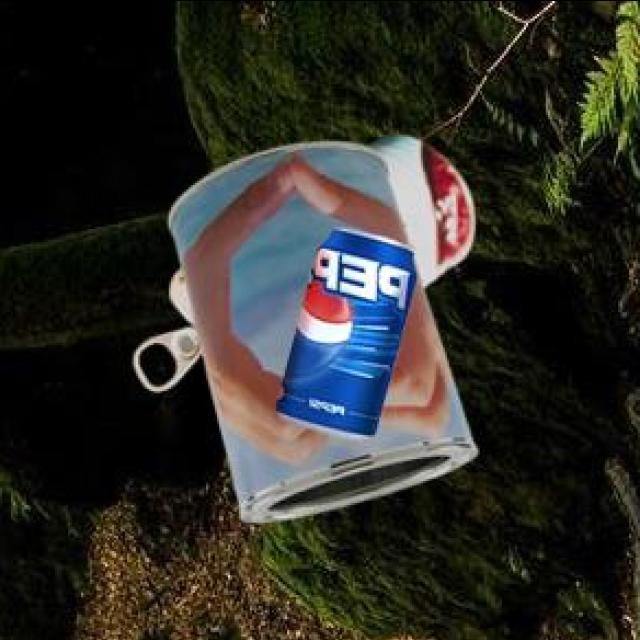logam: (165, 137, 475, 518), (130, 130, 472, 387), (273, 227, 413, 435)
